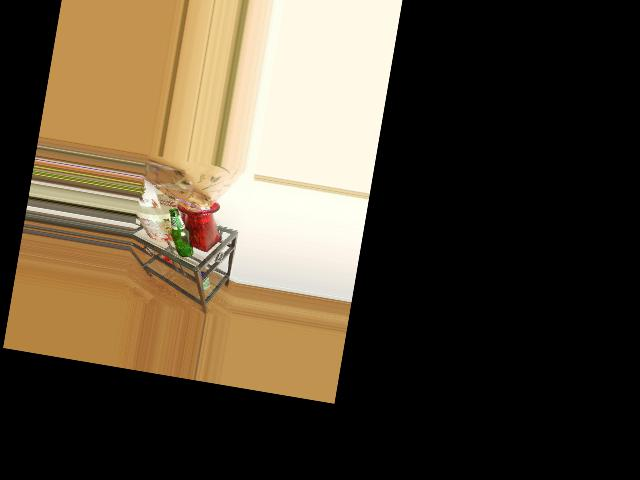beer: (162, 207, 199, 258)
